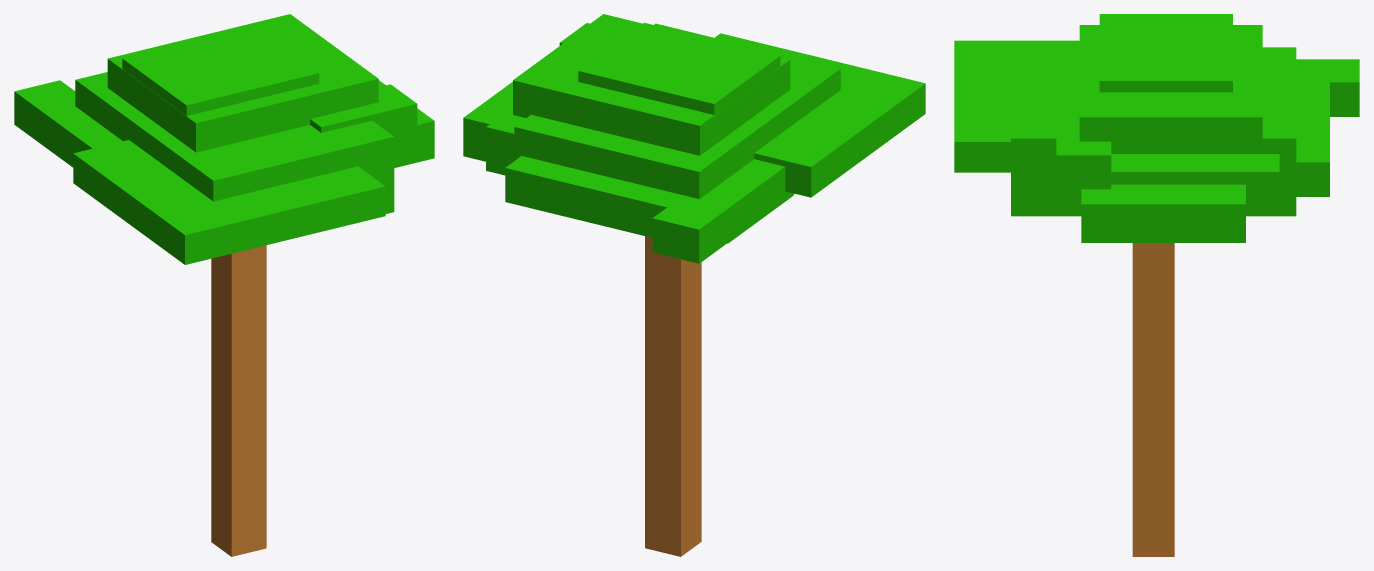
File: Tree4.fbx
3 views of the same model, side by side, from view 1: azimuth 30°, elevation 25°; view 2: azimuth 150°, elevation 25°; view 3: azimuth 270°, elevation 25° (orthographic). The views are drawn at different scales.
Parts seen in each view (by area): view 1: Cube.007, Cube.001, Cube.002, Cube.005, Cube.000, Cube.009, Cube.008, Cube.004; view 2: Cube.001, Cube.002, Cube.005, Cube.007, Cube.000, Cube.010, Cube.009, Cube.004, Cube.003; view 3: Cube.002, Cube.005, Cube.001, Cube.000, Cube.004, Cube.007, Cube.003, Cube.010, Cube.008, Cube.009.
Part boxes in pixels (left/top/right/bottom): Cube.007: left=73, top=140, right=385, bottom=264; Cube.001: left=211, top=245, right=266, bottom=556; Cube.002: left=75, top=72, right=394, bottom=213; Cube.005: left=107, top=14, right=378, bottom=152; Cube.000: left=122, top=26, right=319, bottom=115; Cube.009: left=14, top=80, right=122, bottom=167; Cube.008: left=310, top=84, right=417, bottom=152; Cube.004: left=378, top=80, right=434, bottom=167; Cube.001: left=645, top=236, right=701, bottom=556; Cube.002: left=514, top=23, right=840, bottom=198; Cube.005: left=513, top=14, right=790, bottom=155; Cube.007: left=714, top=33, right=925, bottom=197; Cube.000: left=578, top=22, right=780, bottom=114; Cube.010: left=505, top=156, right=695, bottom=237; Cube.009: left=652, top=159, right=794, bottom=263; Cube.004: left=463, top=82, right=512, bottom=161; Cube.003: left=486, top=107, right=525, bottom=175; Cube.002: left=1011, top=47, right=1296, bottom=216; Cube.005: left=1079, top=25, right=1262, bottom=152; Cube.001: left=1132, top=243, right=1174, bottom=556; Cube.000: left=1099, top=14, right=1232, bottom=92; Cube.004: left=1081, top=184, right=1245, bottom=242; Cube.007: left=954, top=40, right=1079, bottom=172; Cube.003: left=1111, top=154, right=1279, bottom=216; Cube.010: left=1296, top=76, right=1329, bottom=196; Cube.008: left=1056, top=107, right=1111, bottom=200; Cube.009: left=1296, top=59, right=1359, bottom=116.
Size of the model in its own units: 932 by 1370 by 1018.
